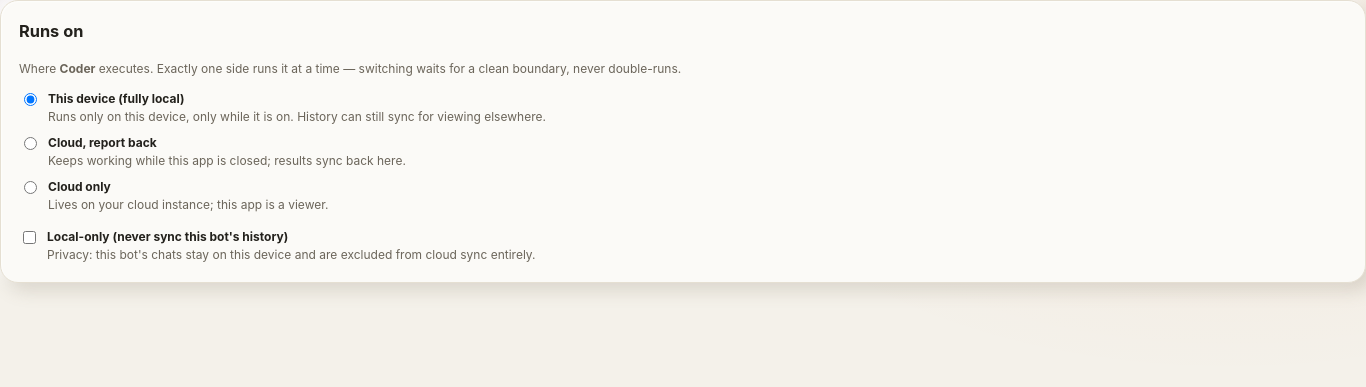
BotPlacementPanel › 409 cloud-not-connected prompts to connect cloud first
The width and height of the screenshot is (1366, 387).
Click the radio button labelled "Cloud only". click: [30, 187]
box: [24,181,37,194]
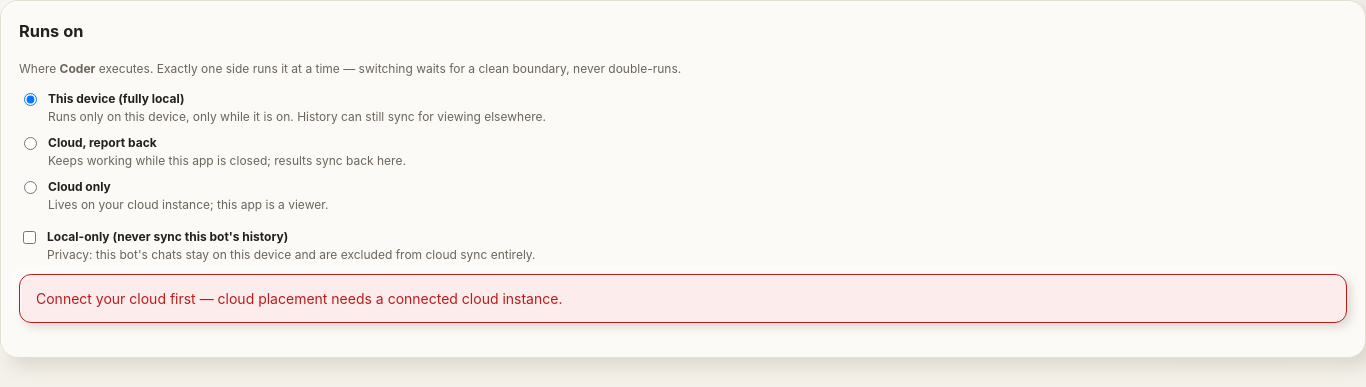
Expected: the text "Connect your cloud first — cloud placement needs a connected cloud instance." is shown, [19,274,1347,323]
